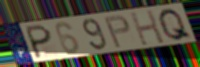6: (54, 20, 83, 55)
9: (82, 17, 109, 51)
H: (128, 9, 167, 47)
P: (25, 23, 54, 60), (103, 13, 132, 49)
Q: (157, 7, 195, 43)
